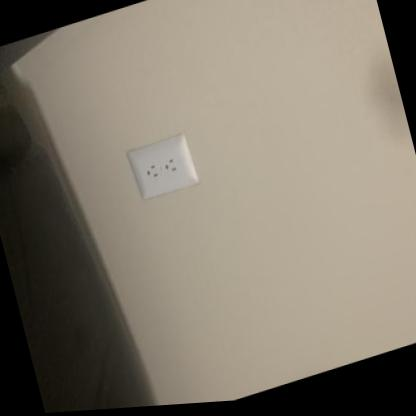OUTLET: (126, 129, 202, 204)
